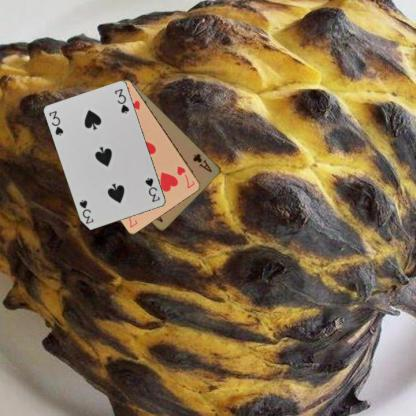3s: (47, 108, 65, 137), (143, 175, 161, 203)
7h: (174, 164, 197, 190)
Ac: (191, 151, 213, 173)
